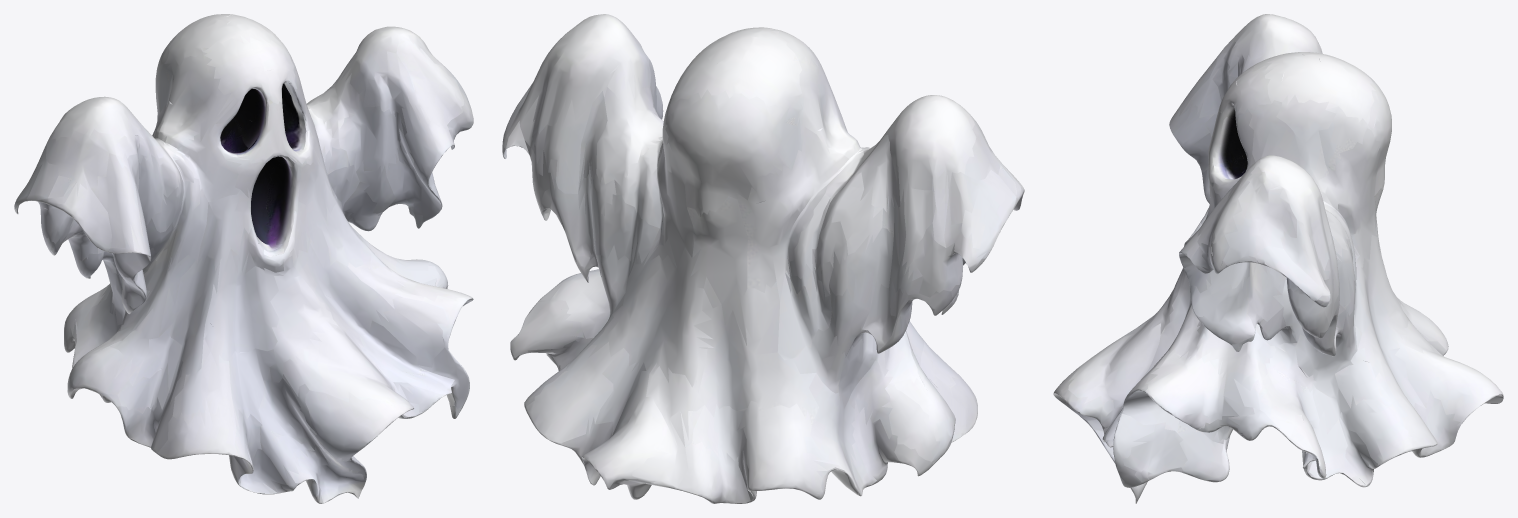
File: ghost.glb
3 renders of one model, left to right at view 1: azimuth 30°, elevation 25°; view 2: azimuth 150°, elevation 25°; view 3: azimuth 270°, elevation 25°, orthographic. The views are drawn at different scales.
Size of the model in its own units: 1.9 by 1.81 by 1.73.
Materials: 1 (1 with a texture image).
